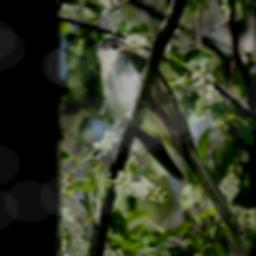Cuckoo: (83, 35, 249, 248)
